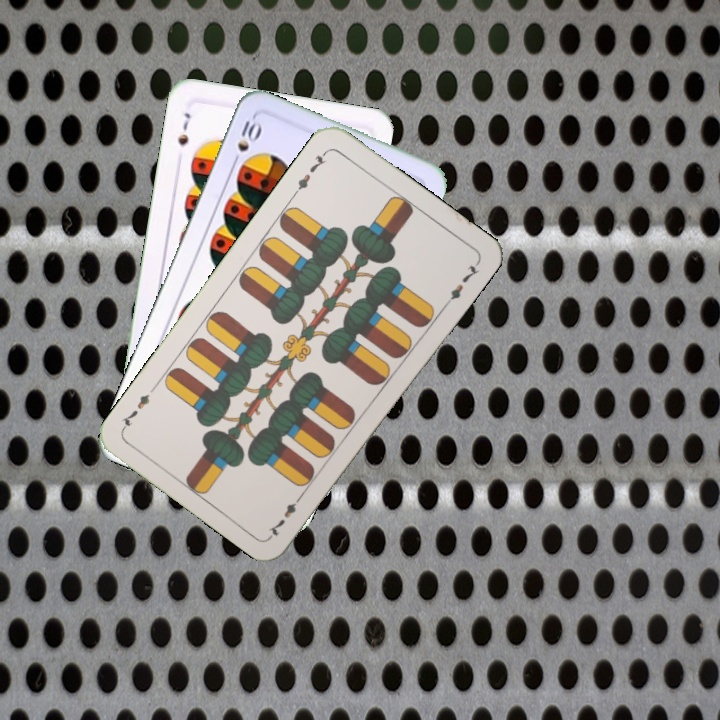E7: (264, 489, 307, 539), (290, 146, 330, 198)
S10: (228, 116, 264, 169)
S7: (173, 108, 193, 148)
